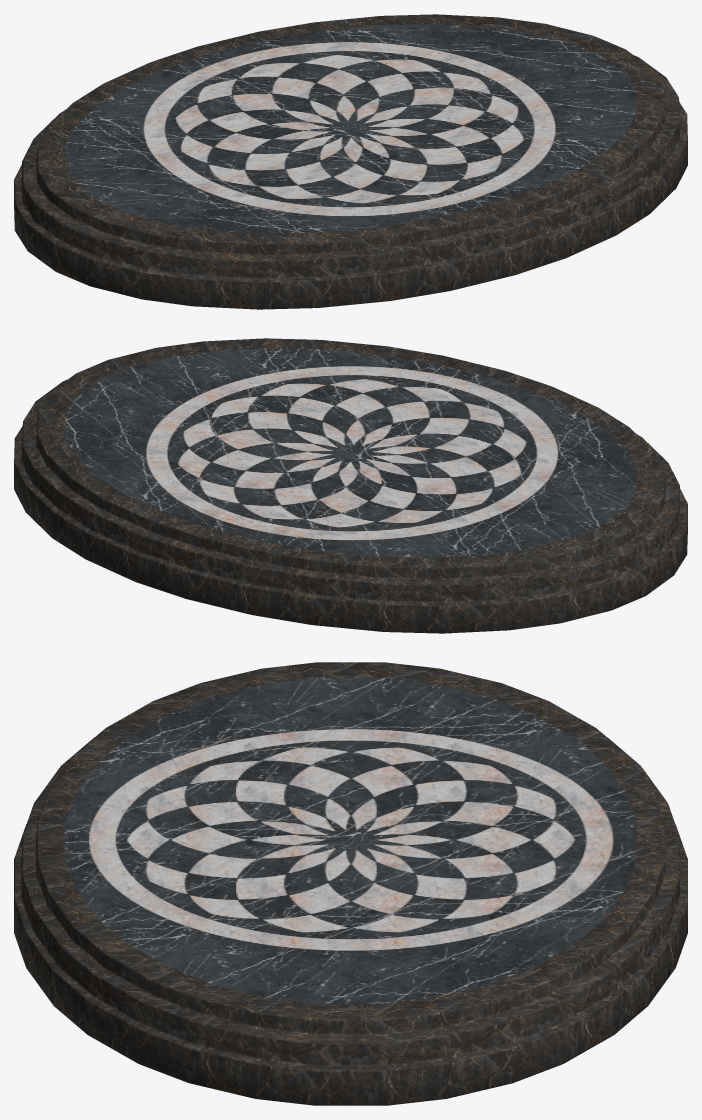
Rendered from Stage_C.fbx.
The picture shows the model from 3 angles, top to bottom: view 1: azimuth 30°, elevation 25°; view 2: azimuth 150°, elevation 25°; view 3: azimuth 270°, elevation 25°; orthographic projection. The views are drawn at different scales.
Parts seen in each view (by area): view 1: Stage_C; view 2: Stage_C; view 3: Stage_C.
Boxes of the visible parts, box(x1,y1,x2,y2) form: Stage_C: box(14, 14, 687, 309); Stage_C: box(14, 338, 687, 633); Stage_C: box(14, 662, 687, 1105).
Size of the model in its own units: 18.7 by 1.67 by 13.85.
